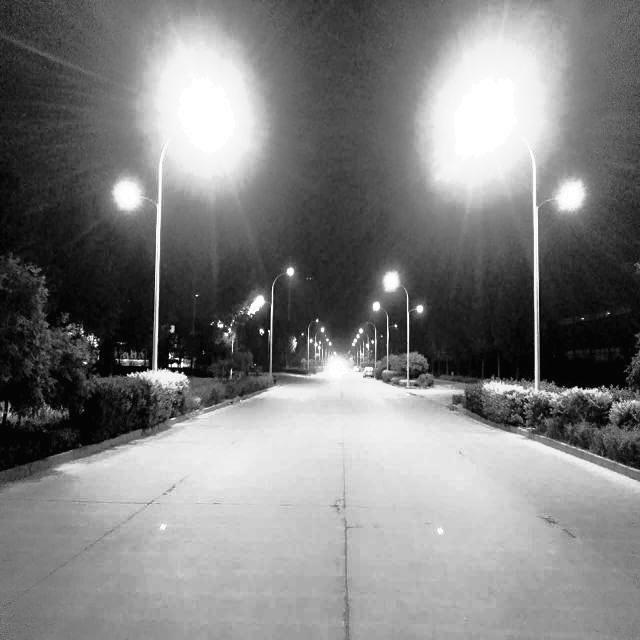Light: (429, 34, 589, 384), (110, 35, 276, 372), (247, 262, 299, 384), (385, 264, 426, 385), (371, 296, 400, 380), (298, 312, 319, 375)
